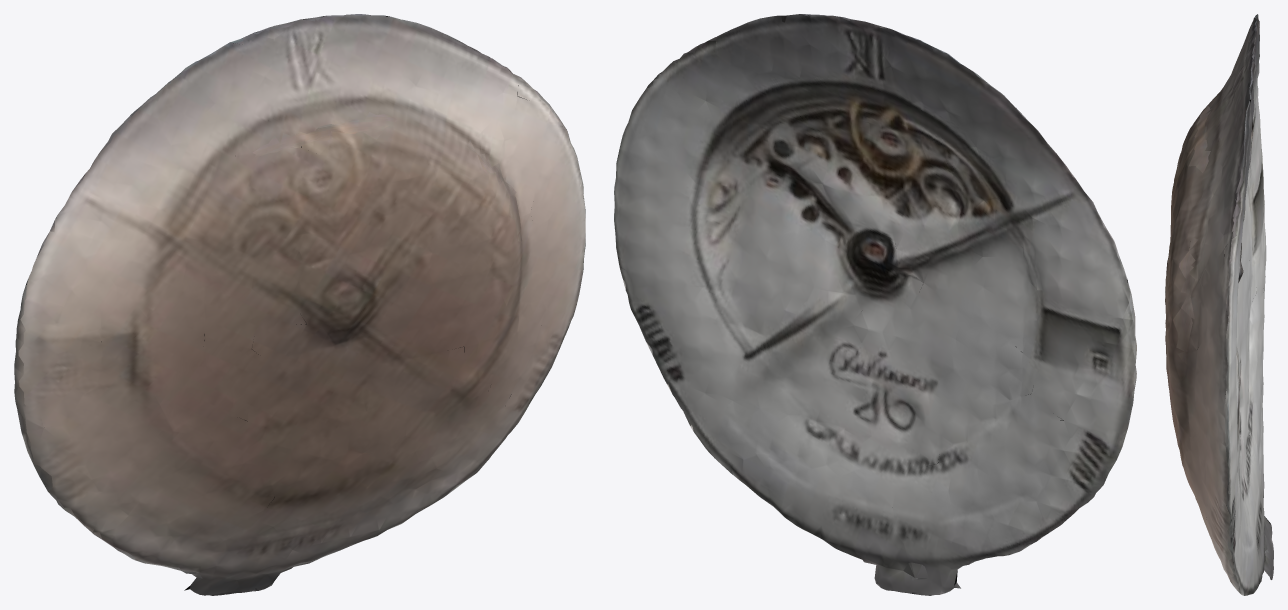
The model's file is 16_05_19_21_a-single-chronometer-with-guilloche-dial-pattern.glb.
3 views of the same model, side by side, from view 1: azimuth 30°, elevation 25°; view 2: azimuth 150°, elevation 25°; view 3: azimuth 270°, elevation 25° (orthographic). The views are drawn at different scales.
Parts seen in each view (by area): view 1: world; view 2: world; view 3: world.
Boxes of the visible parts, left/top/right/bottom form: world: left=14, top=14, right=585, bottom=595; world: left=614, top=14, right=1136, bottom=595; world: left=1165, top=14, right=1273, bottom=595.
Size of the model in its own units: 0.8383 by 0.8247 by 0.1488.
1 material, 1 textured.
